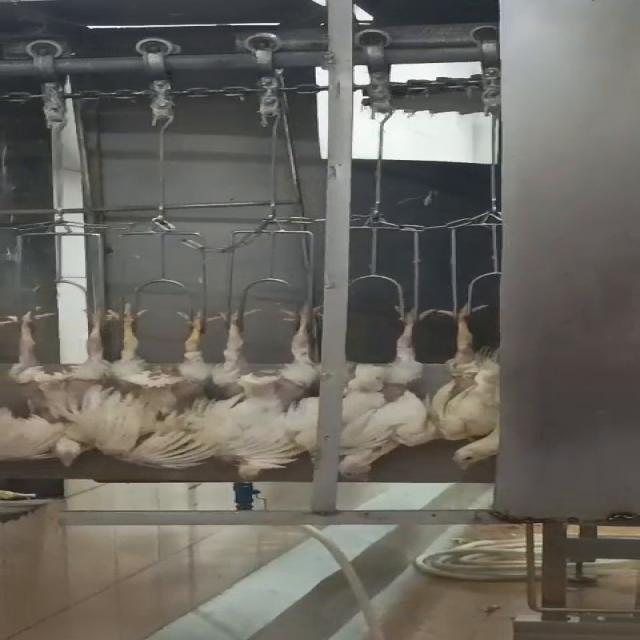chicken: (199, 292, 331, 484), (0, 302, 131, 472), (329, 302, 440, 486), (108, 300, 224, 469), (436, 290, 502, 472)
